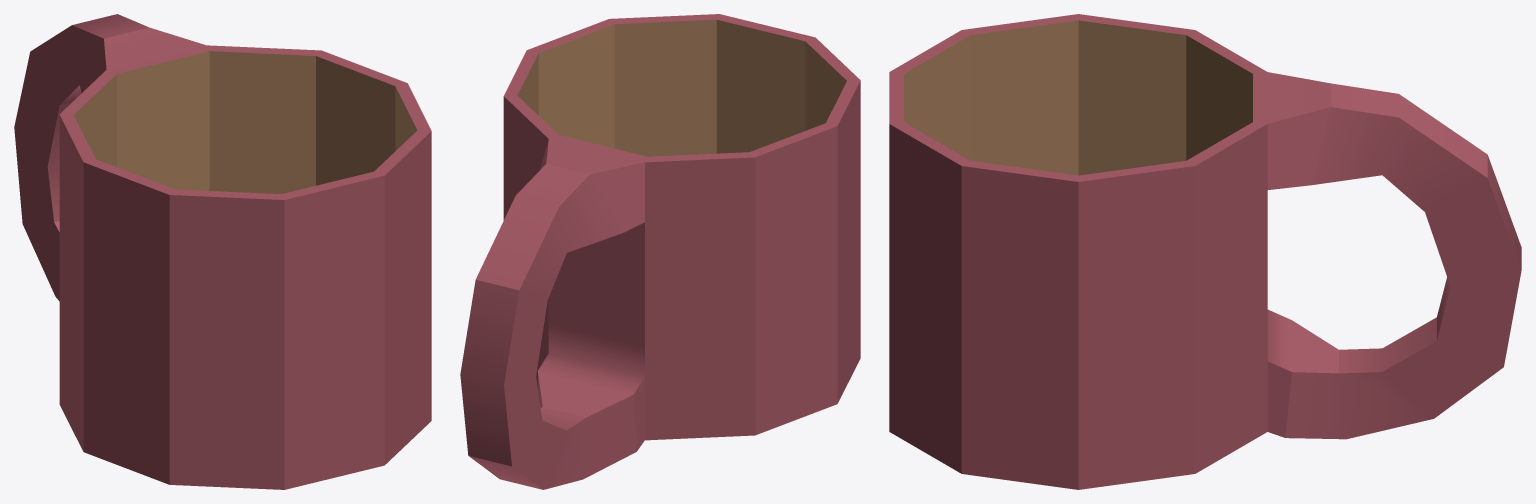
File: Mug.fbx
The picture shows the model from 3 angles, left to right: view 1: azimuth 30°, elevation 25°; view 2: azimuth 150°, elevation 25°; view 3: azimuth 270°, elevation 25°; orthographic projection. The views are drawn at different scales.
Visible parts, largest first — view 1: Mug; view 2: Mug; view 3: Mug.
Boxes of the visible parts, x1,y1,x2,y2 form: Mug: [14, 14, 431, 489]; Mug: [460, 14, 860, 489]; Mug: [889, 14, 1521, 489].
Bounding box in the file's own units: 10 × 9.22 × 15.9.
